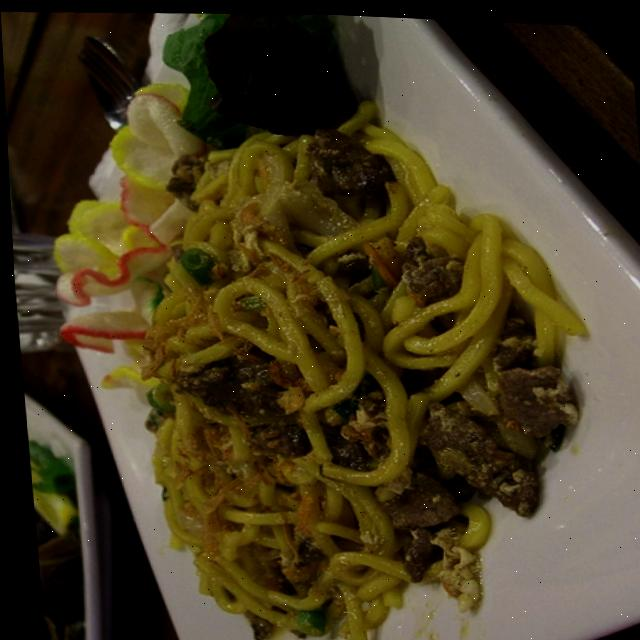面条主食: (14, 14, 638, 640)
